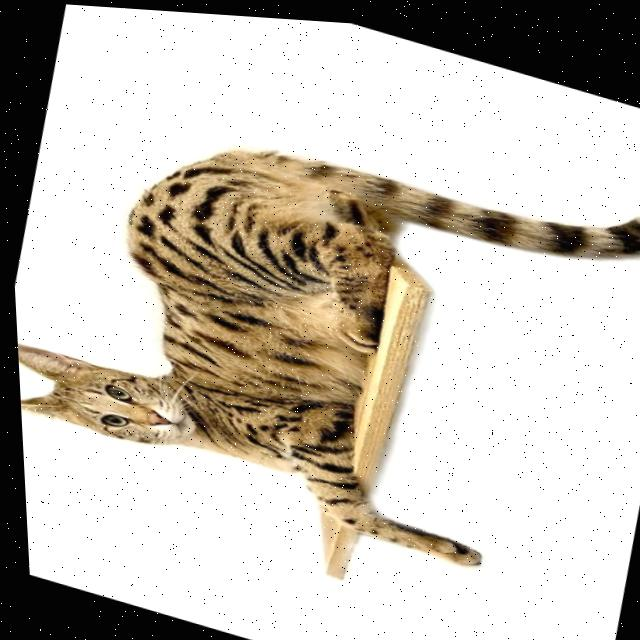Savannah: (0, 10, 640, 607)
